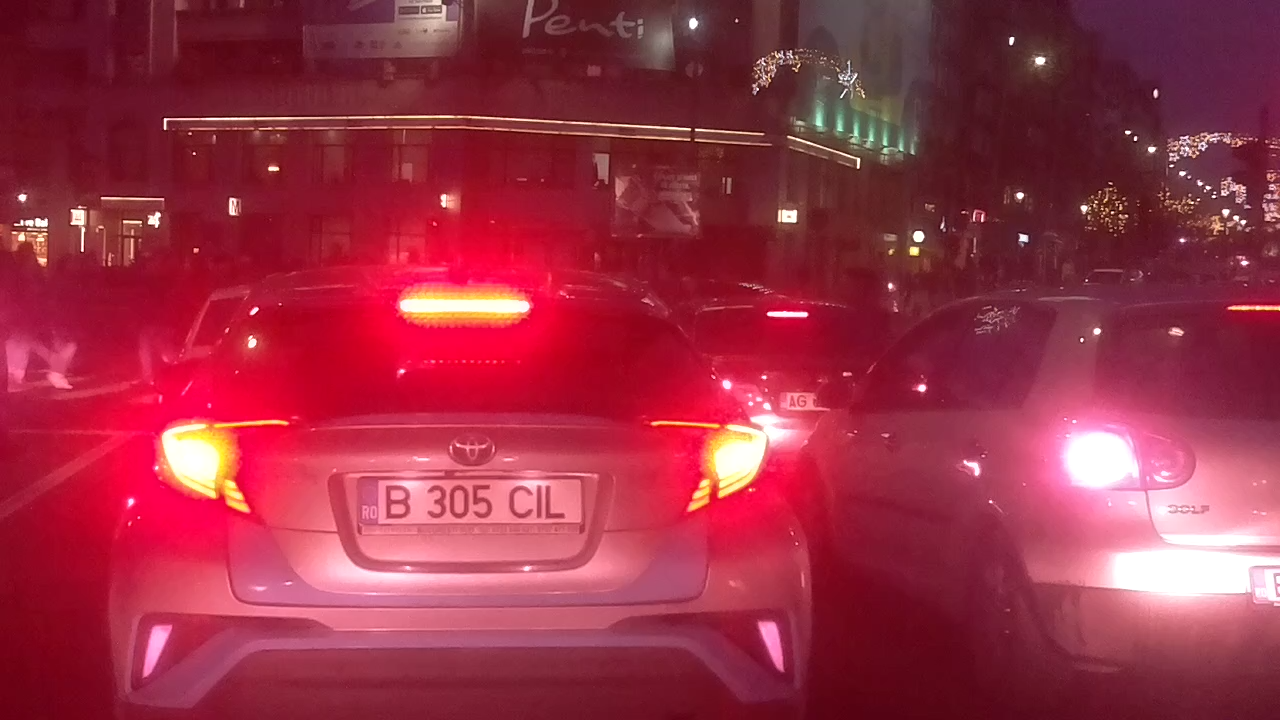license-plate: (351, 472, 589, 529)
